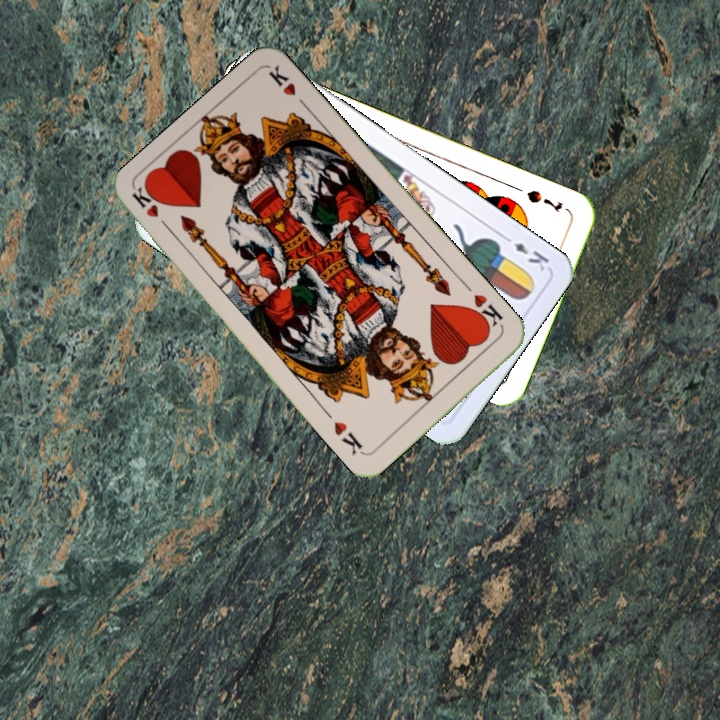EK: (498, 230, 552, 274)
HK: (129, 184, 176, 236), (465, 290, 506, 334)
S7: (523, 186, 566, 215)
